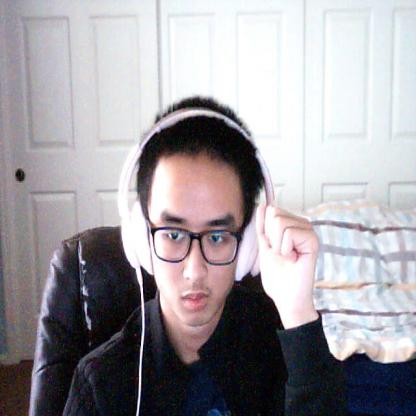fist: (254, 202, 319, 307)
